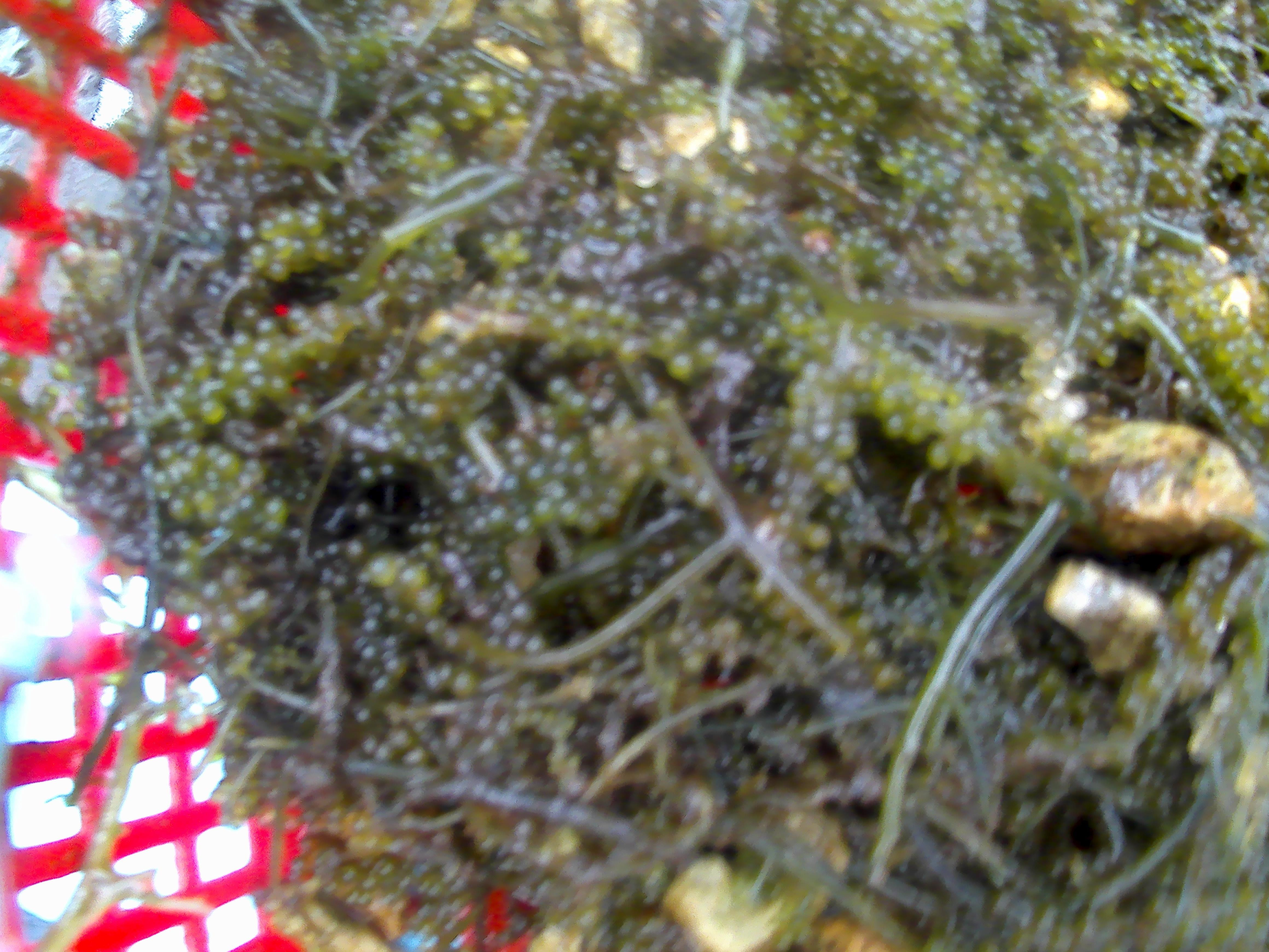Darkening: (587, 109, 613, 135), (653, 285, 676, 313), (67, 464, 92, 489), (113, 503, 137, 528), (388, 727, 413, 751), (512, 603, 536, 625), (597, 501, 620, 523), (346, 539, 364, 567), (101, 474, 126, 494), (490, 614, 513, 635), (1059, 644, 1078, 664), (346, 540, 364, 559), (606, 581, 624, 598), (566, 607, 583, 623), (721, 322, 737, 338)
Harvestable: (1061, 439, 1092, 469), (369, 558, 396, 590), (804, 521, 833, 550), (925, 441, 953, 471), (667, 353, 696, 381), (218, 355, 245, 383), (451, 670, 477, 696), (223, 329, 251, 353), (173, 557, 199, 582), (884, 414, 909, 439), (978, 406, 1003, 431), (416, 355, 442, 379), (190, 487, 214, 512), (577, 511, 602, 535), (170, 500, 196, 523), (533, 500, 557, 524), (433, 149, 457, 173), (558, 499, 581, 524), (269, 373, 292, 397), (199, 400, 221, 425), (583, 591, 606, 614), (547, 376, 571, 398), (649, 445, 671, 468), (670, 92, 692, 115), (1164, 747, 1185, 770), (906, 423, 928, 444), (1117, 786, 1136, 809), (697, 337, 718, 357), (53, 361, 74, 381), (265, 498, 286, 518), (857, 390, 877, 411), (269, 262, 290, 282), (0, 351, 16, 376), (606, 303, 625, 324), (548, 480, 567, 500), (763, 326, 781, 347), (1070, 422, 1089, 441), (255, 339, 274, 358), (438, 240, 456, 259), (822, 369, 840, 388), (251, 374, 269, 392), (258, 317, 276, 335), (835, 466, 852, 484), (403, 445, 420, 462), (704, 297, 722, 313), (528, 464, 545, 480), (578, 484, 594, 501), (233, 332, 251, 347), (909, 30, 925, 46), (527, 636, 543, 652), (552, 460, 568, 475), (442, 344, 458, 359), (359, 467, 374, 483), (572, 460, 587, 476), (500, 287, 515, 303), (384, 383, 400, 398), (671, 318, 686, 333), (851, 24, 866, 39), (420, 403, 436, 417), (1197, 176, 1211, 190), (390, 431, 404, 444), (158, 487, 171, 500), (1120, 147, 1133, 159), (145, 486, 156, 500)
Whitening: (1051, 354, 1076, 379), (1035, 340, 1058, 364), (1066, 394, 1087, 418), (634, 169, 658, 190), (1043, 381, 1063, 403), (616, 153, 638, 171), (617, 138, 638, 153)
